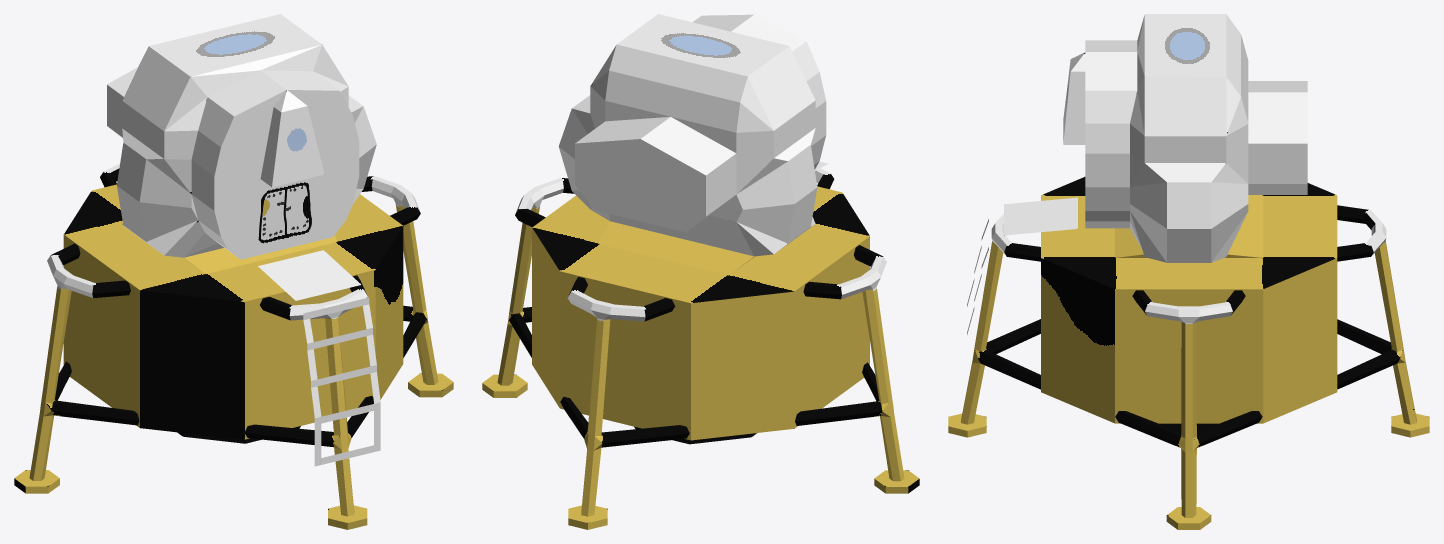
File: lander.glb
3 views of the same model, side by side, from view 1: azimuth 30°, elevation 25°; view 2: azimuth 150°, elevation 25°; view 3: azimuth 270°, elevation 25° (orthographic). The views are drawn at different scales.
Parts seen in each view (by area): view 1: lander; view 2: lander; view 3: lander.
Part boxes in pixels (x1,y1,x2,y2): lander: (14,14,453,529); lander: (482,14,919,529); lander: (948,14,1429,529).
Size of the model in its own units: 6.5 by 5.7 by 6.5.
Materials: 1 (1 with a texture image).
